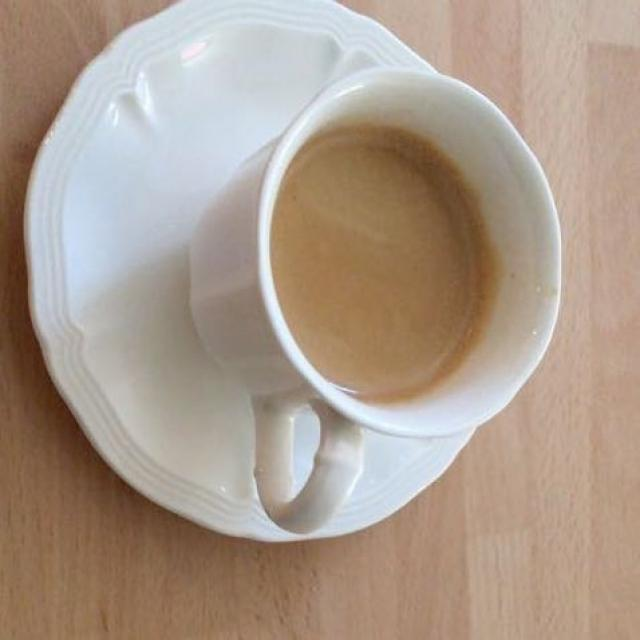coffee: (268, 123, 532, 400)
